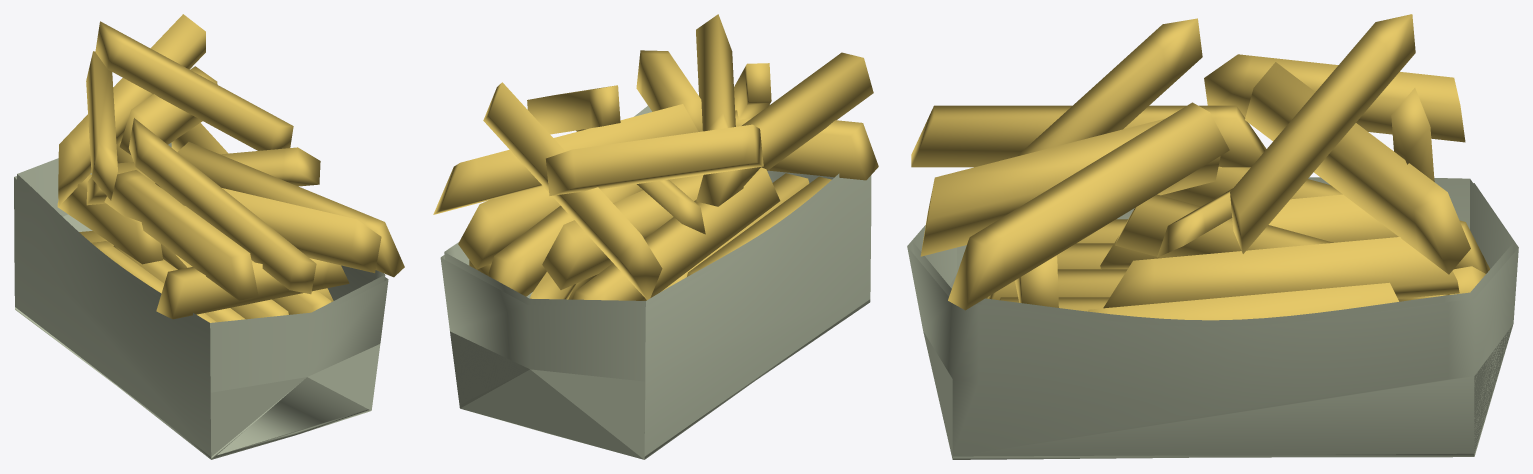
Rendered from frenchfries_straight.fbx.
3 renders of one model, left to right at view 1: azimuth 30°, elevation 25°; view 2: azimuth 150°, elevation 25°; view 3: azimuth 270°, elevation 25°, orthographic. The views are drawn at different scales.
Parts seen in each view (by area): view 1: box, fry.019, fry.020, fry.017, fry.018, fry.009, fry.022, fry.008, interior, fry.023, fry.006, fry.012 (+6 smaller); view 2: box, fry.023, fry.022, fry.017, fry.006, fry.016, fry.015, fry.011, fry.008, fry.007, fry.018, interior (+7 smaller); view 3: box, fry.009, fry.011, fry.020, fry.016, fry.018, fry.017, fry.019, interior, fry.023, fry.010, fry.007 (+9 smaller).
Part boxes in pixels (x1,y1,x2,y2): box: (14,176,388,459); fry.019: (129,118,316,294); fry.020: (95,21,293,150); fry.017: (104,170,258,300); fry.018: (155,183,381,273); fry.009: (177,141,404,277); fry.022: (58,14,205,206); fry.008: (156,258,349,319); interior: (17,143,385,328); fry.023: (86,51,117,200); fry.006: (57,174,163,264); fry.012: (86,147,320,205); box: (440,175,871,459); fry.023: (546,124,763,195); fry.022: (483,82,662,299); fry.017: (696,52,873,206); fry.006: (573,167,780,300); fry.016: (433,104,698,214); fry.015: (542,175,703,289); fry.011: (458,186,560,269); fry.008: (735,110,878,180); fry.007: (488,184,642,296); fry.018: (696,14,735,131); interior: (444,106,840,307); box: (907,183,1518,459); fry.009: (948,102,1229,310); fry.011: (1103,237,1459,308); fry.020: (1230,14,1415,253); fry.016: (1245,62,1470,274); fry.018: (920,118,1220,256); fry.017: (911,105,1266,167); fry.019: (1017,18,1202,156); interior: (912,177,1513,326); fry.023: (1204,54,1465,142); fry.010: (1088,282,1398,320); fry.007: (1115,194,1449,301).
Bounding box in the file's own units: 0.3393 × 0.4297 × 0.603.
